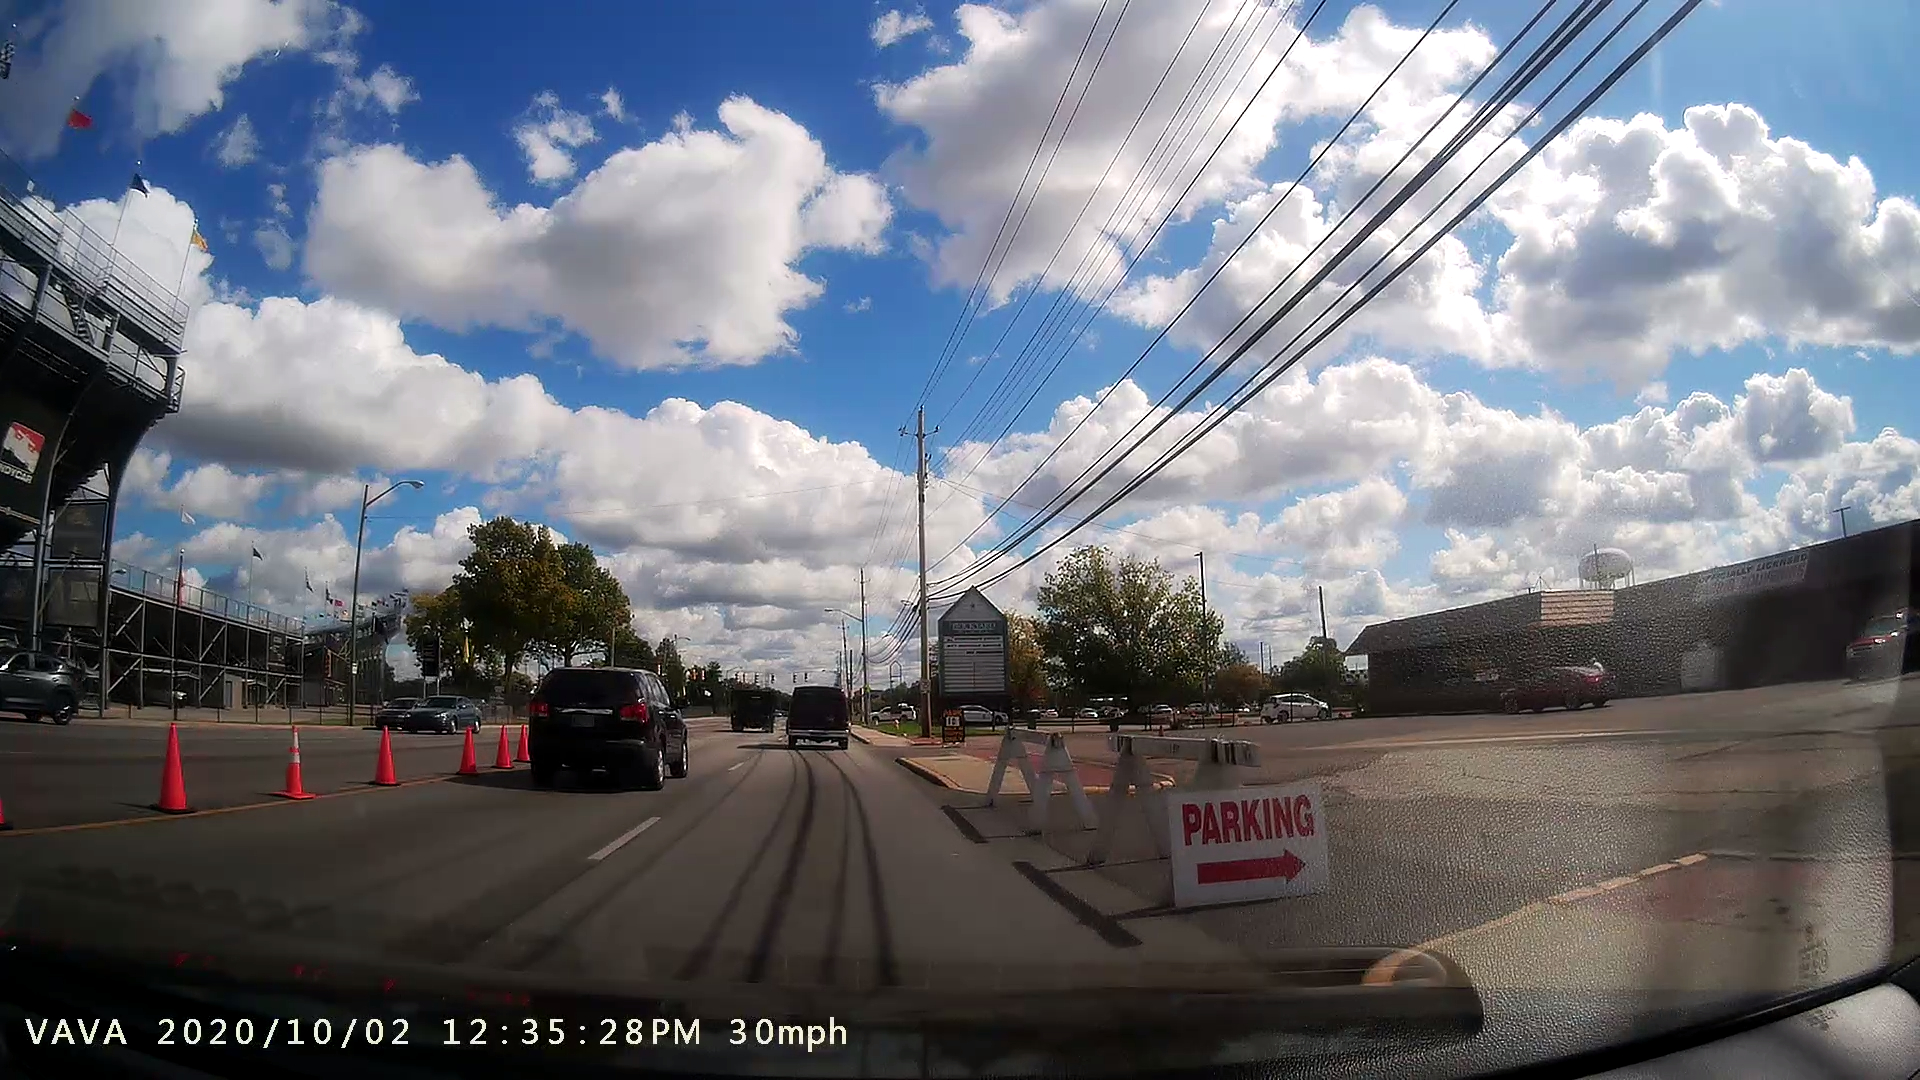const_barricade: (964, 705, 1113, 848)
const_cone: (137, 705, 208, 835), (258, 713, 327, 818), (365, 712, 413, 793), (450, 720, 487, 785), (491, 717, 516, 771)
